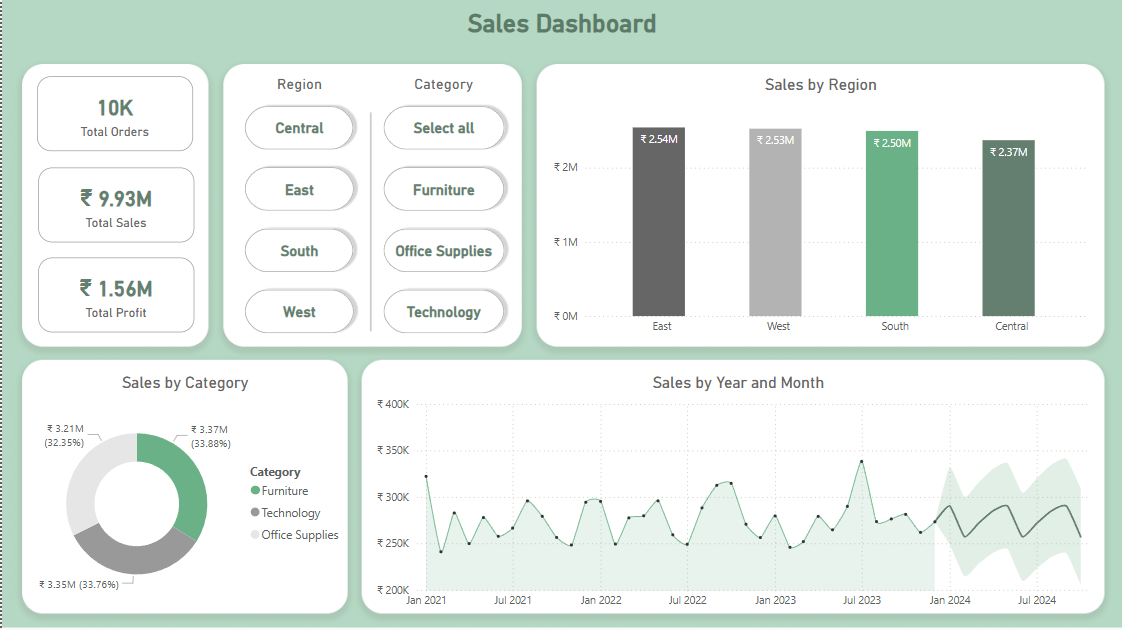

Layout of this report page (visuals, bound fields, positions):
{"tool":"powerbi","page":{"name":"Page 1","canvas":[1280,720],"ordinal":0},"visuals":[{"type":"advancedSlicerVisual","fields":{"Values":["Superstore_Sales.Category"]},"box":[430,85.7,150,301.4],"z":0},{"type":"lineChart","title":"Sales by Year and Month","fields":{"Category":["Superstore_Sales.Order Date.Variation.Date Hierarchy.Year","Superstore_Sales.Order Date.Variation.Date Hierarchy.Month"],"Y":["Sum(Superstore_Sales.Sales)"]},"box":[422.9,427.1,837.1,277.1],"z":1000},{"type":"columnChart","title":"Sales by Region","fields":{"Y":["Sum(Superstore_Sales.Sales)"],"Category":["Superstore_Sales.Region"]},"box":[625.7,85.7,620,305.7],"z":2000},{"type":"donutChart","title":"Sales by Category","fields":{"Category":["Superstore_Sales.Category"],"Y":["Sum(Superstore_Sales.Sales)"]},"box":[20,427.1,378.6,277.1],"z":3000},{"type":"advancedSlicerVisual","fields":{"Values":["Superstore_Sales.Region"]},"box":[271.4,85.7,137.1,301.4],"z":4000},{"type":"card","fields":{"Values":["Sum(Superstore_Sales.Sales)"]},"box":[41.4,190.7,178.6,85.7],"z":5000},{"type":"card","fields":{"Values":["Sum(Superstore_Sales.Profit)"]},"box":[41.4,294.3,178.6,85.7],"z":6000},{"type":"card","fields":{"Values":["Count(Superstore_Sales.Order ID)"]},"box":[40,87.1,178.6,85.7],"z":7000},{"type":"textbox","box":[521.4,4.3,237.1,61.4],"z":8000},{"type":"shape","box":[407.1,128.6,28.6,250],"z":9000}]}

Visuals, with their boxes in screenshot pixels (x1, y1, x2, y2), scaled from the page's 1280x720 canvas onto the 1122x630 screenshot:
advancedSlicerVisual - Superstore_Sales.Category: {"x1": 377, "y1": 75, "x2": 508, "y2": 339}
"Sales by Year and Month" lineChart: {"x1": 371, "y1": 374, "x2": 1104, "y2": 616}
"Sales by Region" columnChart: {"x1": 548, "y1": 75, "x2": 1092, "y2": 342}
"Sales by Category" donutChart: {"x1": 18, "y1": 374, "x2": 349, "y2": 616}
advancedSlicerVisual - Superstore_Sales.Region: {"x1": 238, "y1": 75, "x2": 358, "y2": 339}
card - Sum(Superstore_Sales.Sales): {"x1": 36, "y1": 167, "x2": 193, "y2": 242}
card - Sum(Superstore_Sales.Profit): {"x1": 36, "y1": 258, "x2": 193, "y2": 332}
card - Count(Superstore_Sales.Order ID): {"x1": 35, "y1": 76, "x2": 192, "y2": 151}
textbox: {"x1": 457, "y1": 4, "x2": 665, "y2": 57}
shape: {"x1": 357, "y1": 113, "x2": 382, "y2": 331}
